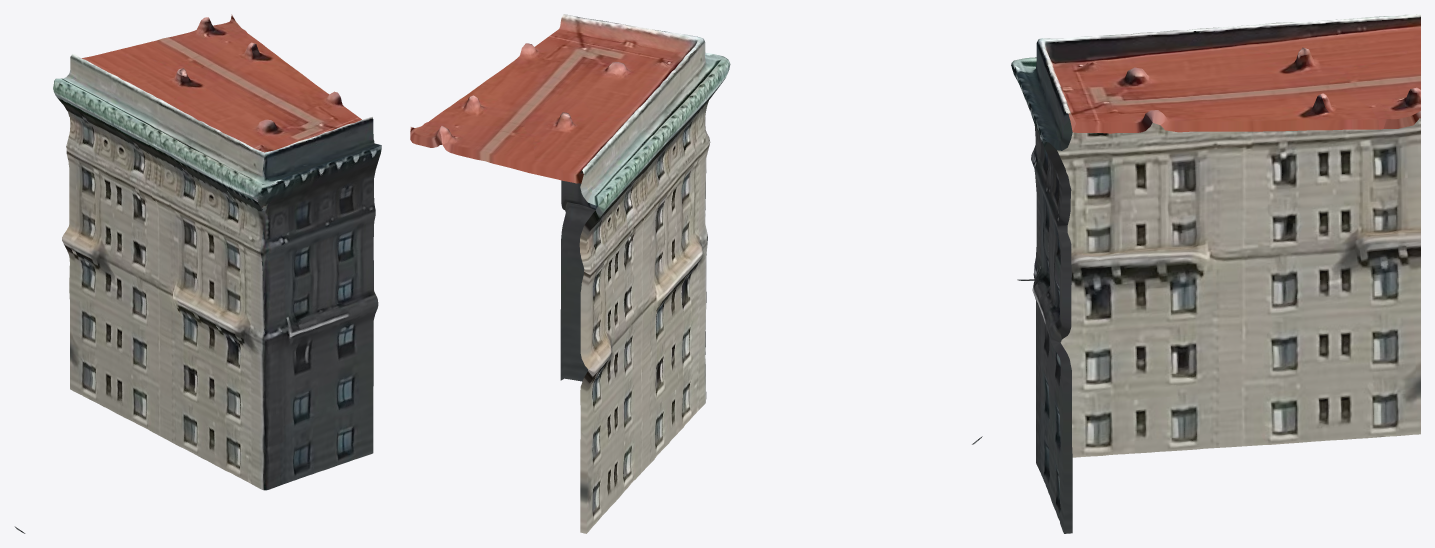
Rendered from z20-167747-405250-h1-yup-uvflip-v3-world.glb.
The picture shows the model from 3 angles, left to right: view 1: azimuth 30°, elevation 25°; view 2: azimuth 150°, elevation 25°; view 3: azimuth 270°, elevation 25°; orthographic projection. The views are drawn at different scales.
Bounding box in the file's own units: 30.24 × 26.8 × 23.16.
Materials: 1 (1 with a texture image).
